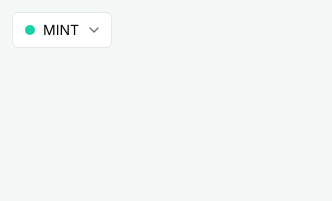
Test: 选中 › 点击选项直接选中并收起
The image size is (332, 201).
Press ArrowDown in the dropdown with class "sel-trigger", box [12,12,112,48]
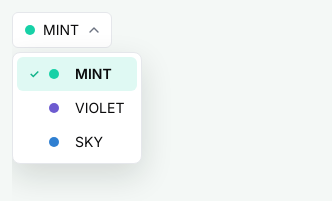
Click the option with class "sel-option" showing "SKY". click: (76, 142)
box: [49,133,103,150]
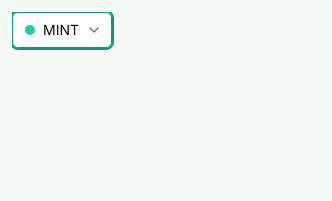
Result: the list with class "sel-panel" is gone
